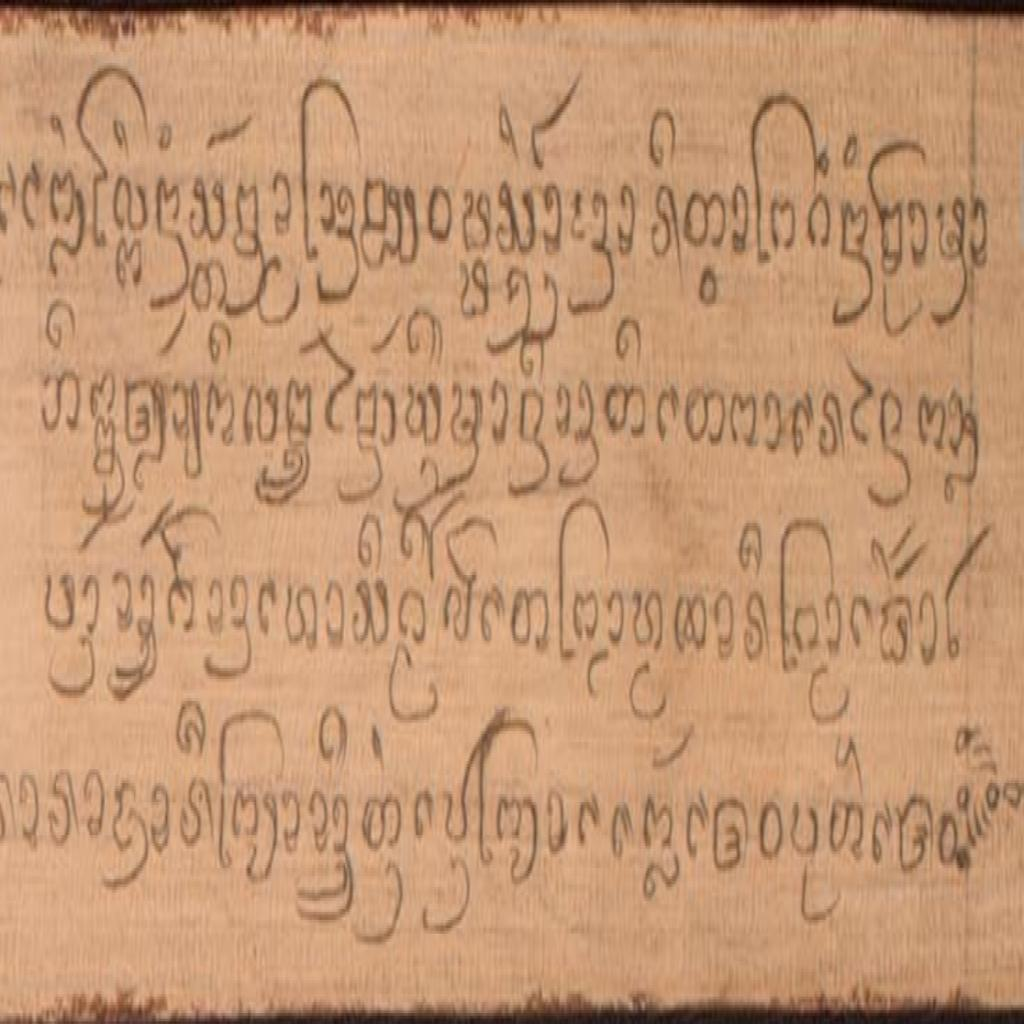LN033: (817, 384, 850, 471)
